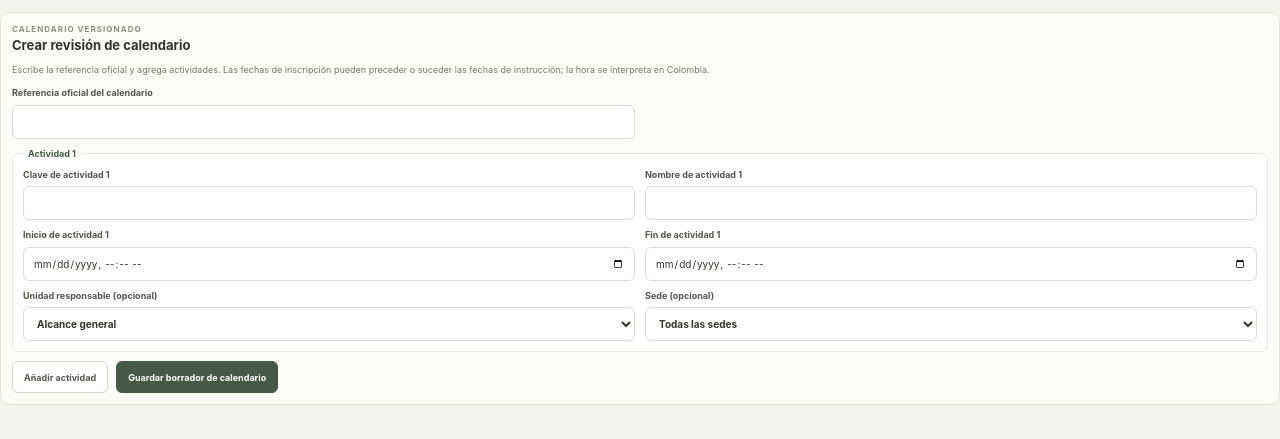
Scenario: academic period administration forms › rejects an activity whose end precedes its start without creating a revision
Type "Resolución de prueba" into the field labelled "Referencia oficial del calendario". click: (324, 122)
box: [12,104,635,138]
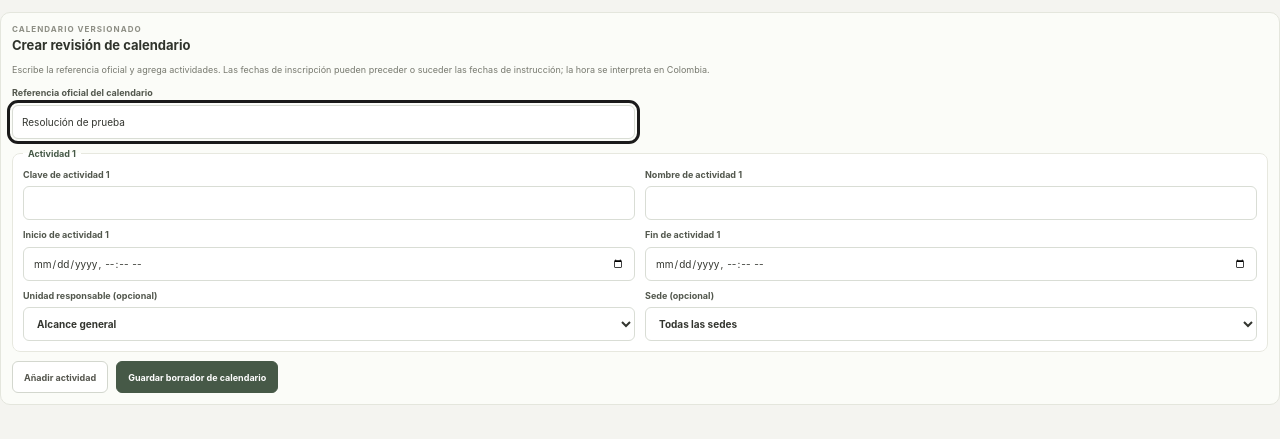
Type "INSCRIPCION" into the field labelled "Clave de actividad 1". click: (329, 203)
box: [23,186,635,220]
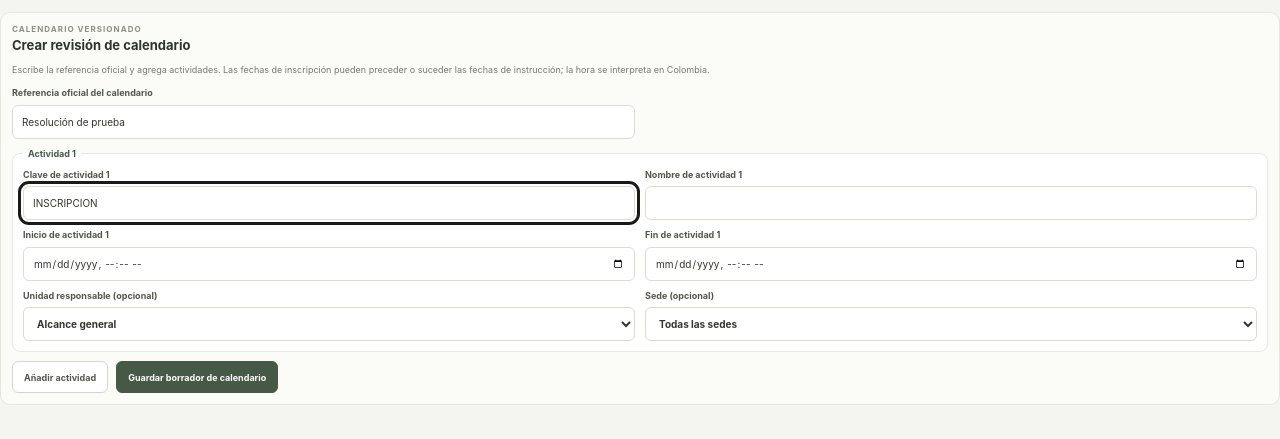
Type "Inscripción" into the field labelled "Nombre de actividad 1". click: (951, 203)
box: [645,186,1257,220]
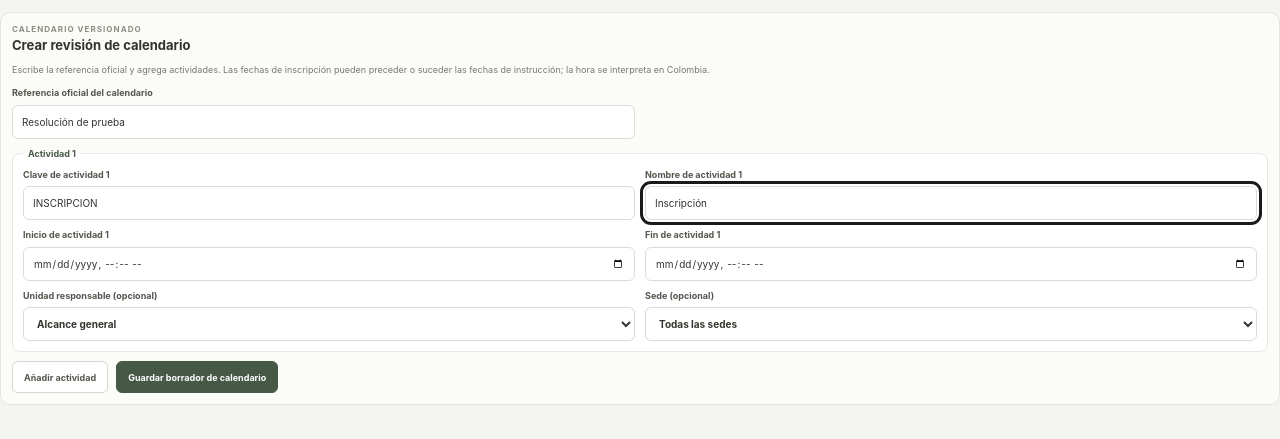
Type "2026-11-10T16:00" into the field labelled "Inicio de actividad 1". click: (329, 264)
box: [23,247,635,281]
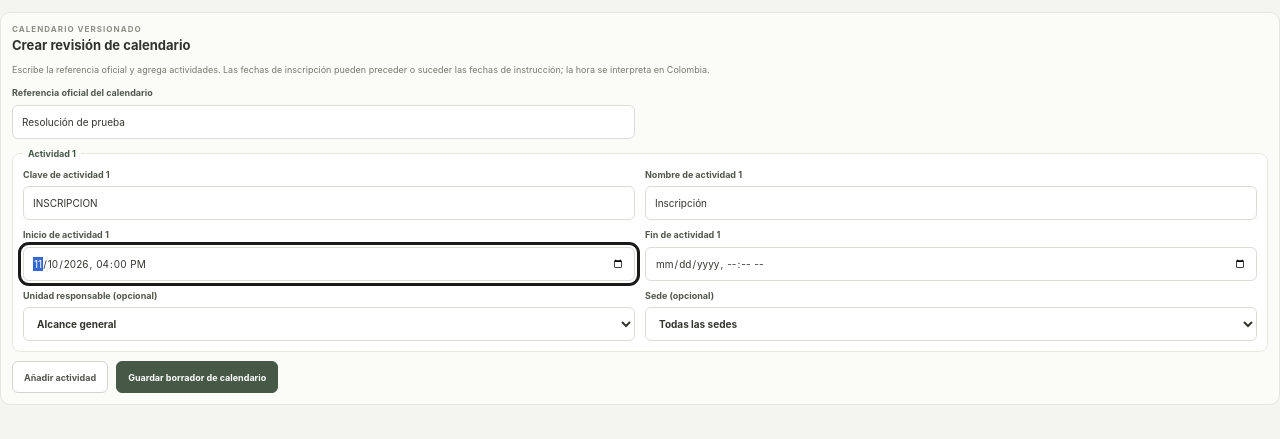
Type "2026-11-01T08:00" into the field labelled "Fin de actividad 1". click: (951, 264)
box: [645,247,1257,281]
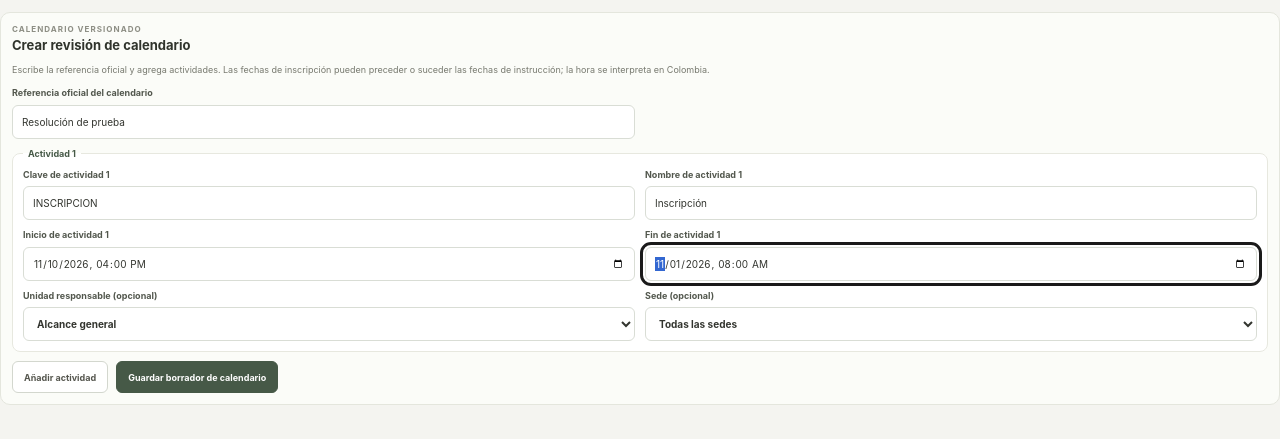
Click the button "Guardar borrador de calendario". click: (197, 377)
box: [116,361,278,393]
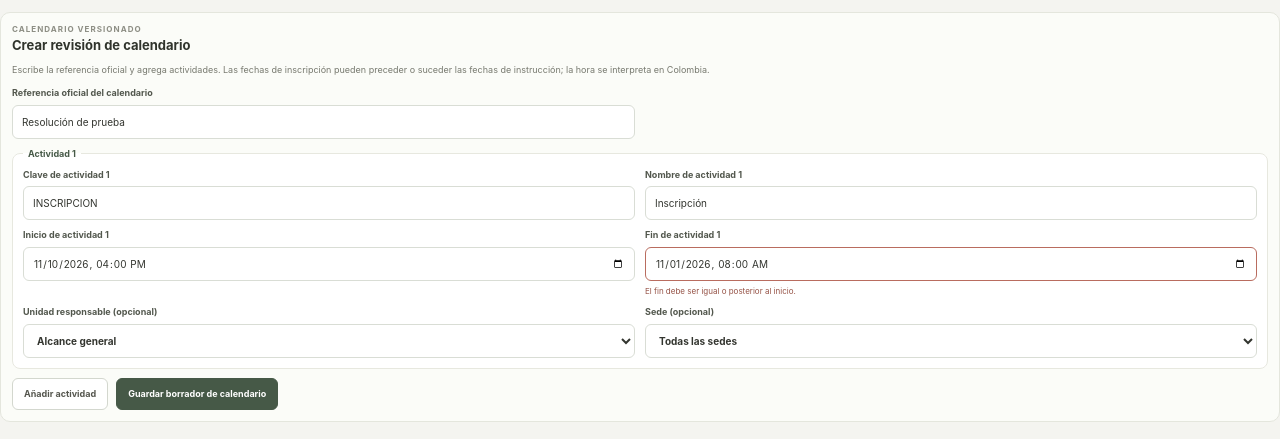
expect the message reads "El fin debe ser igual o posterior al inicio.": met, box [645,286,796,296]
